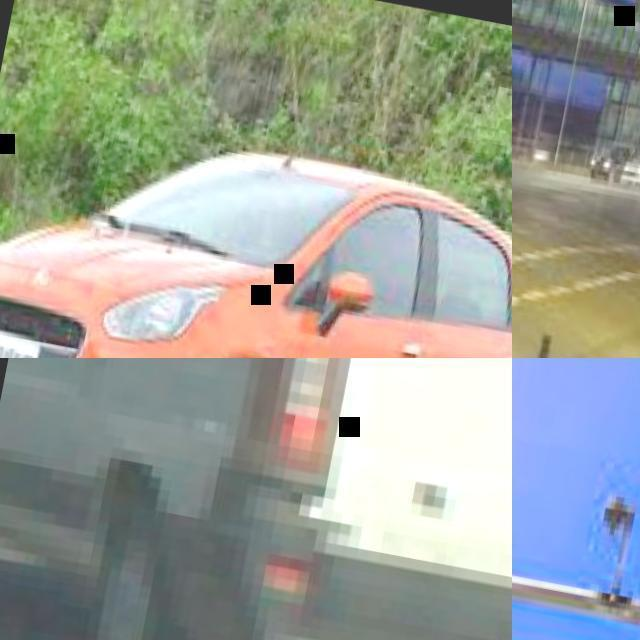car: (5, 365, 513, 640), (14, 151, 514, 353)
